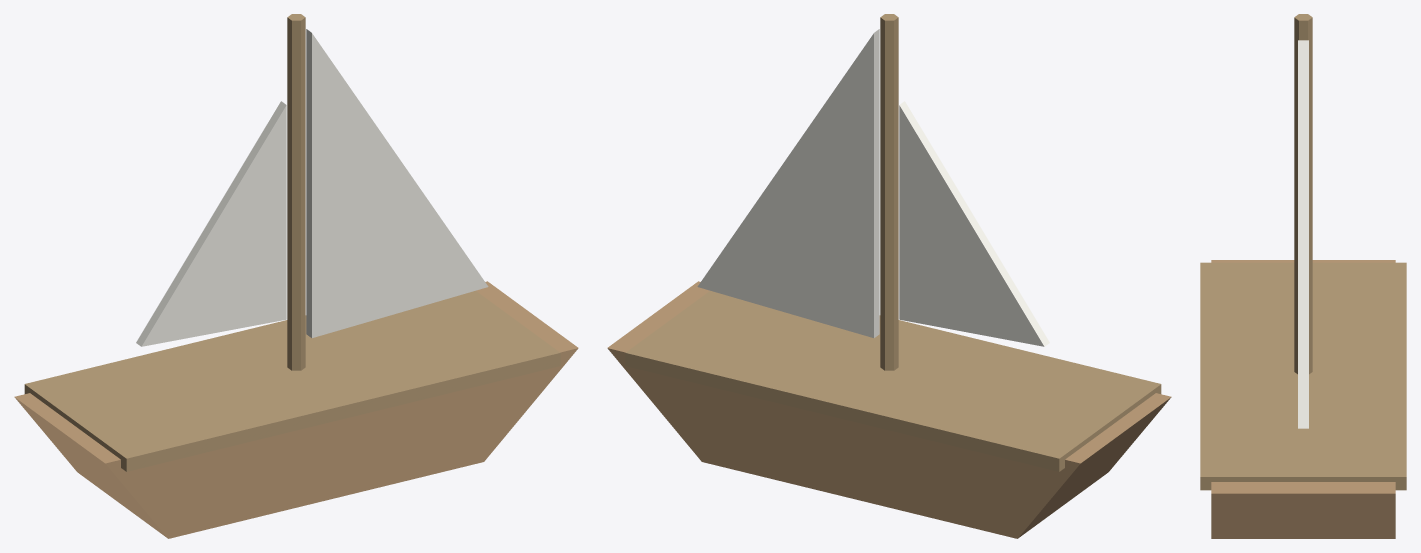
Rendered from ocean__boat.fbx.
3 views of the same model, side by side, from view 1: azimuth 30°, elevation 25°; view 2: azimuth 150°, elevation 25°; view 3: azimuth 270°, elevation 25° (orthographic).
Parts seen in each view (by area): view 1: ocean__boat; view 2: ocean__boat; view 3: ocean__boat.
Part boxes in pixels (x1=…): ocean__boat: x1=14, y1=14, x2=578, y2=538; ocean__boat: x1=607, y1=14, x2=1171, y2=538; ocean__boat: x1=1200, y1=14, x2=1406, y2=538.
Bounding box in the file's own units: 3 × 2.7 × 1.12.
